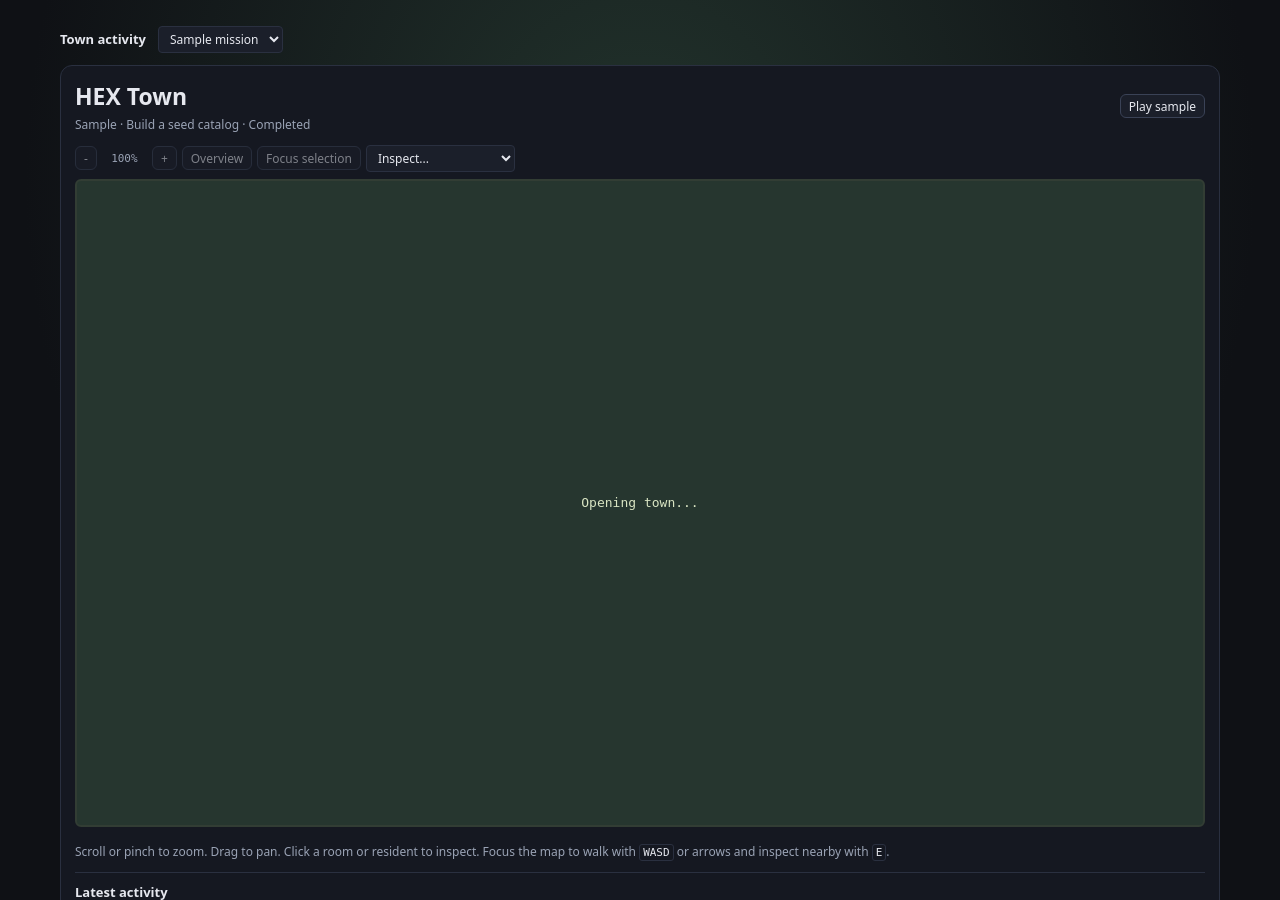
it: Town › opens and plays the sample without contacting the backend or needing a workspace
The width and height of the screenshot is (1280, 900).
Check: the heading "HEX Town" is shown, box [75, 80, 187, 112]
Check: the dropdown labelled "Town activity" shows "Sample mission", box [158, 26, 283, 53]
Select "Test Lab" in the dropdown named "Inspect a room or resident" at (440, 158), box [366, 145, 515, 172]
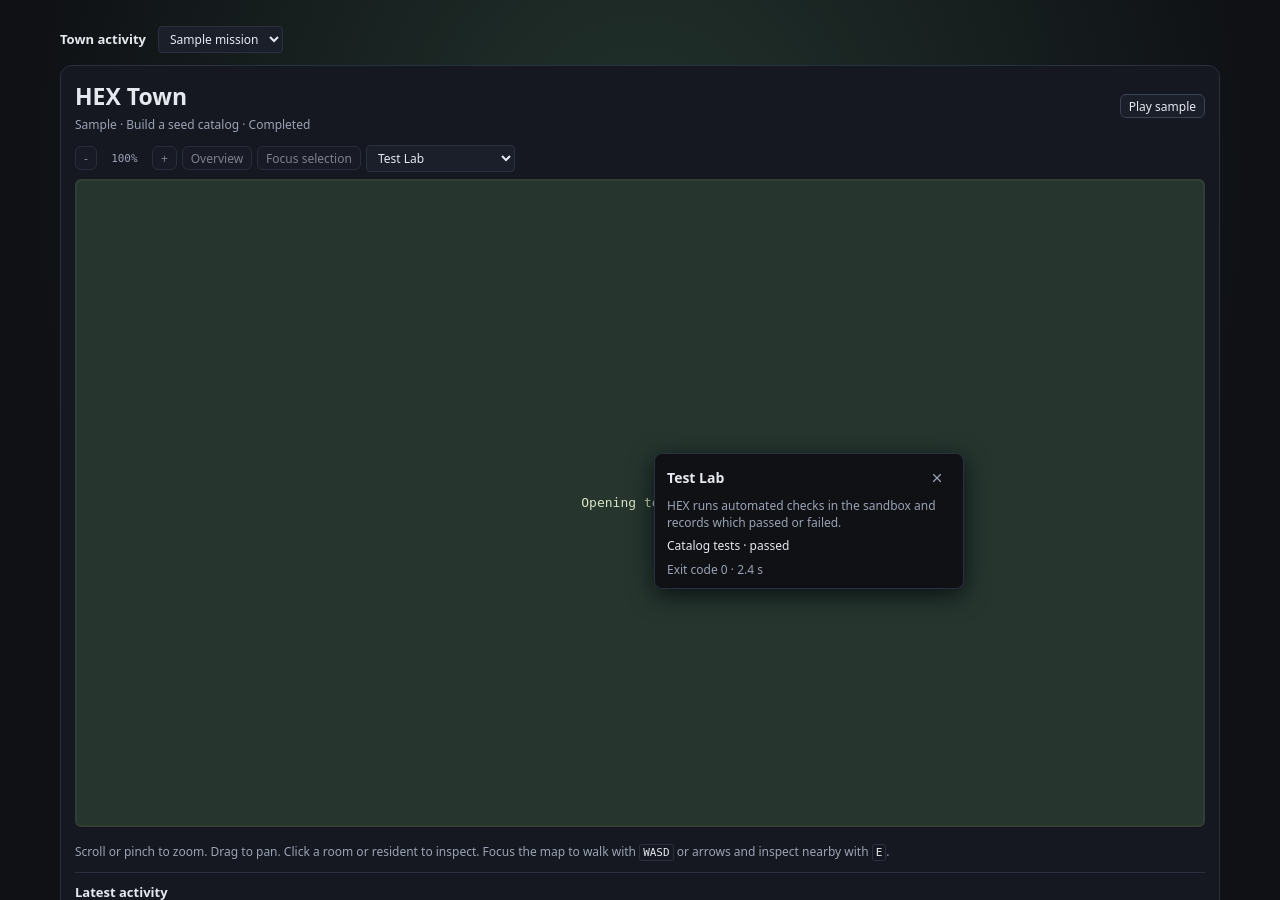
Check: the dialog "Test Lab" shows "Catalog tests · passed", box [667, 537, 789, 554]
Click the button "Play sample".
click(1162, 106)  # box [1120, 94, 1205, 118]
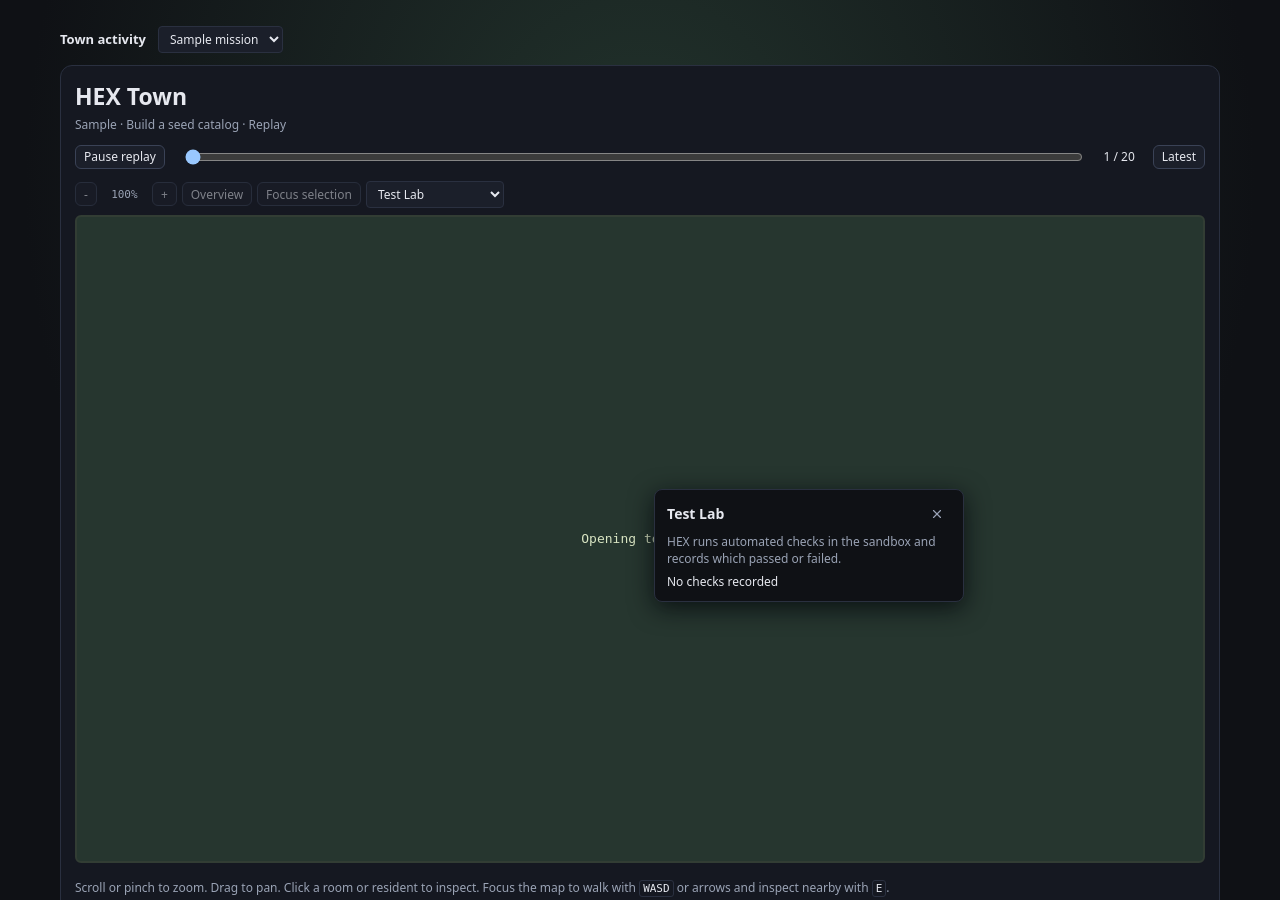
Check: the slider named "Replay position" holds "1", box [185, 149, 1084, 165]
